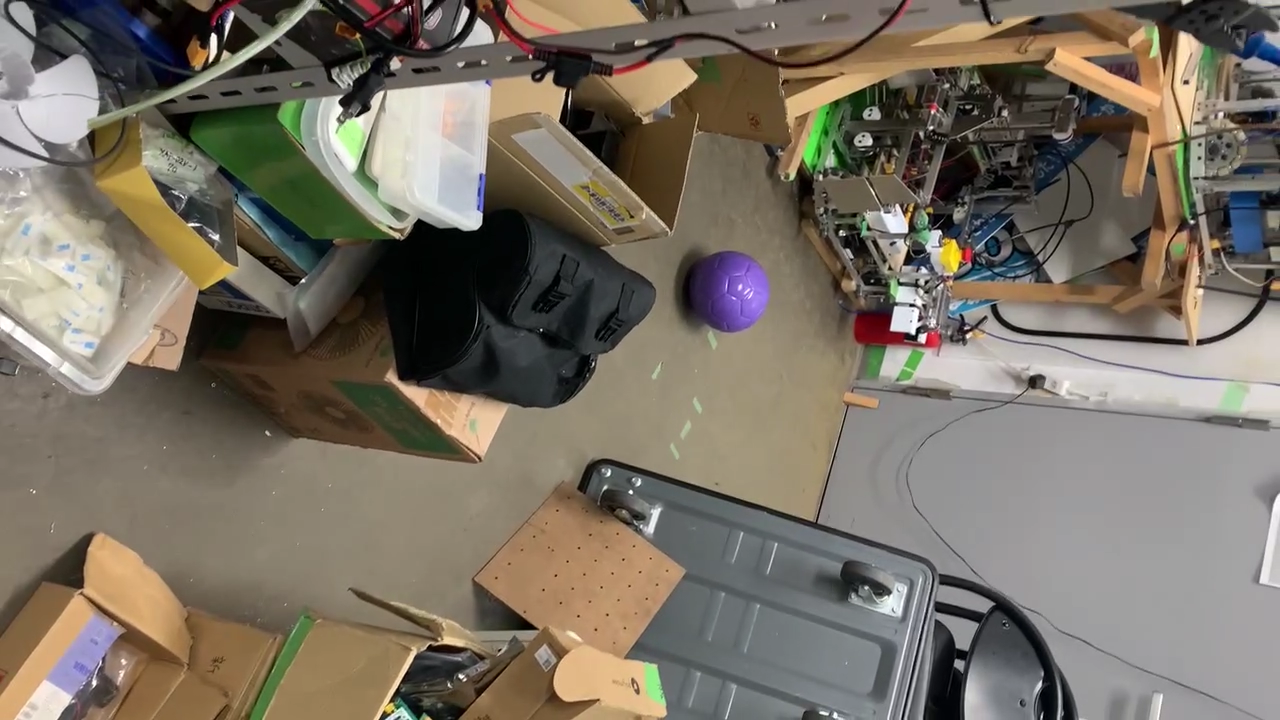purple: (687, 249, 768, 334)
